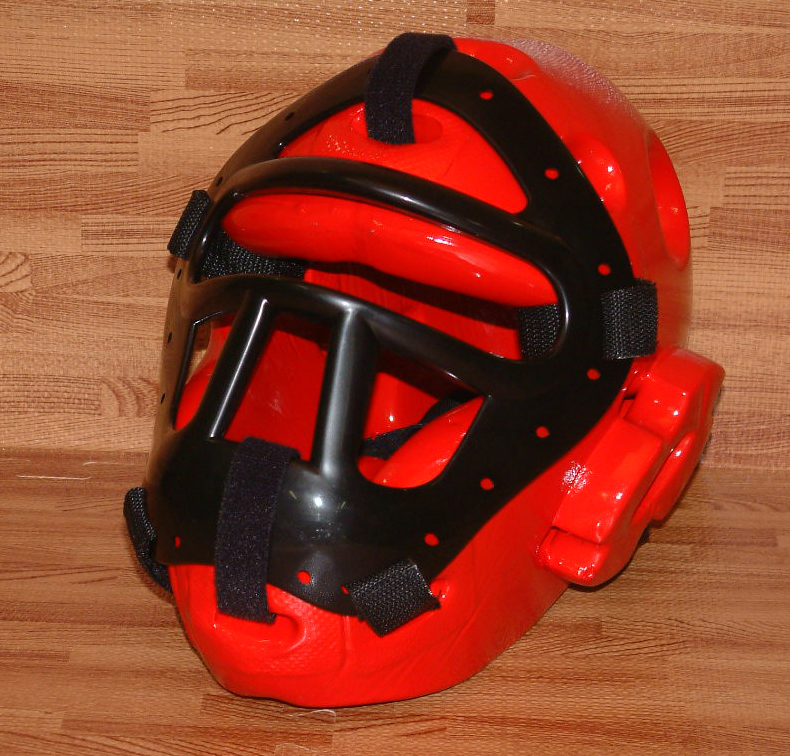helmet: (185, 40, 666, 669)
